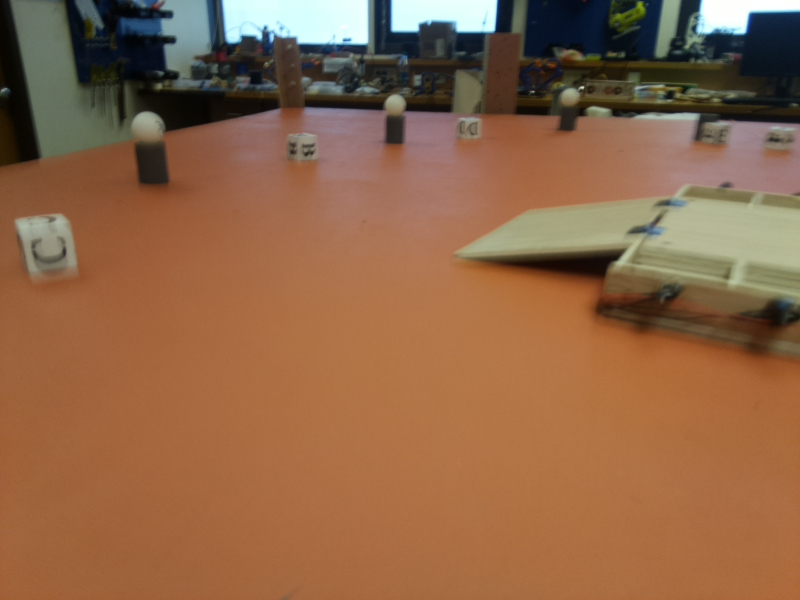blockB: (287, 132, 315, 164)
blockC: (17, 212, 75, 283)
blockD: (459, 113, 482, 143)
corner: (277, 35, 300, 109)
obstacle: (134, 111, 164, 190), (384, 94, 406, 149), (558, 88, 582, 134)
side: (614, 263, 800, 358)
slope: (443, 203, 654, 268)
